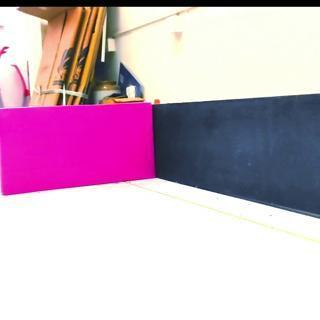xparking: (2, 109, 152, 190)
